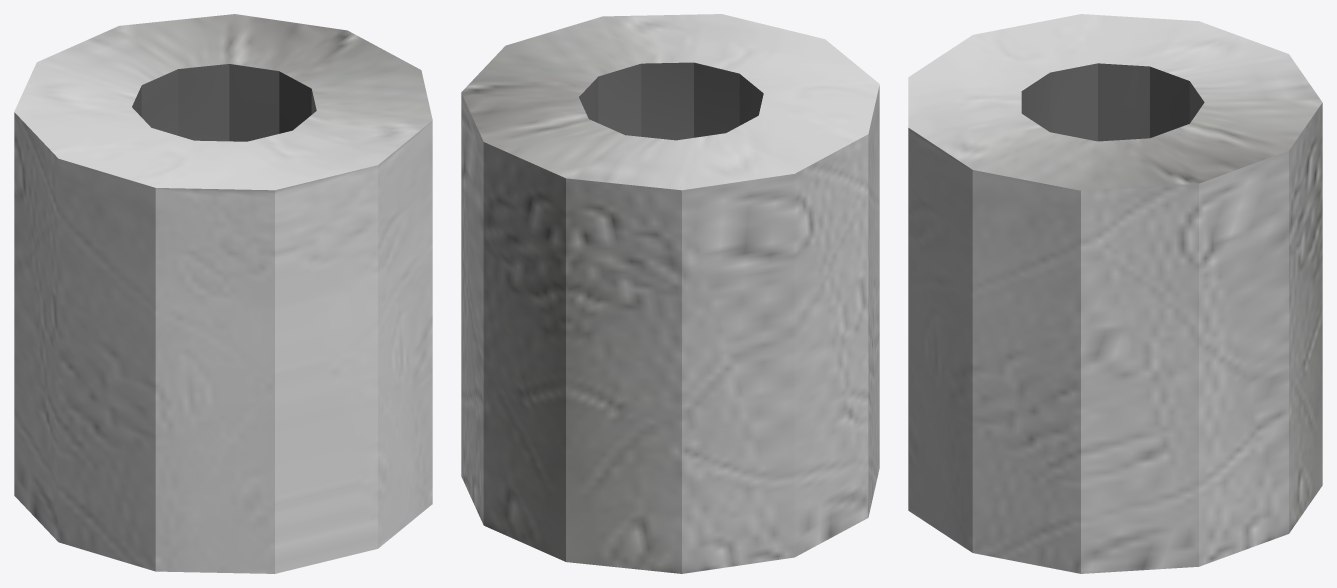
File: ToiletPaper.fbx
3 views of the same model, side by side, from view 1: azimuth 30°, elevation 25°; view 2: azimuth 150°, elevation 25°; view 3: azimuth 270°, elevation 25° (orthographic).
Parts seen in each view (by area): view 1: ToiletPaper; view 2: ToiletPaper; view 3: ToiletPaper.
Boxes of the visible parts, left/top/right/bottom form: ToiletPaper: left=14, top=14, right=432, bottom=573; ToiletPaper: left=461, top=14, right=879, bottom=573; ToiletPaper: left=908, top=14, right=1322, bottom=573.
Bounding box in the file's own units: 1.98 × 2 × 1.96.
1 material, 1 textured.
